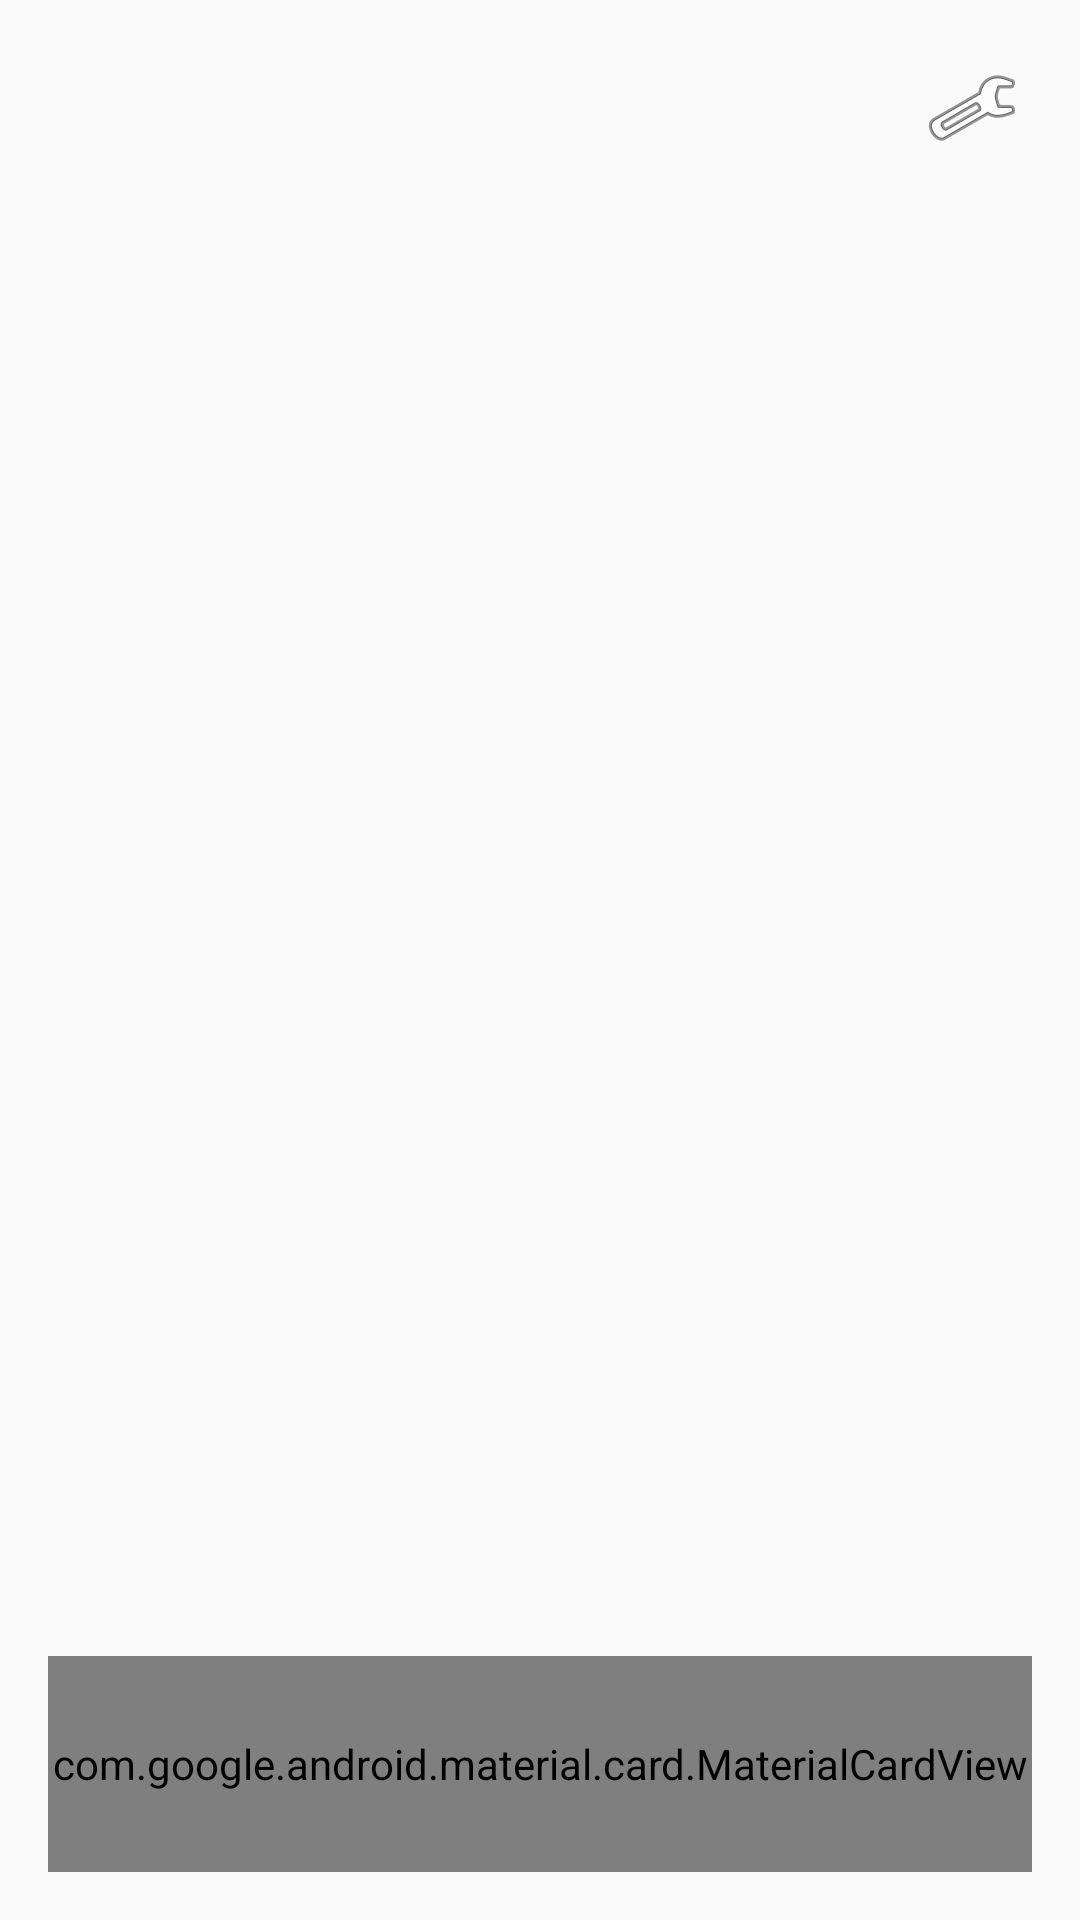

Named icons in this screenshot (1080 × 1920) and their centers, (x,y):
设置: (972,108)
